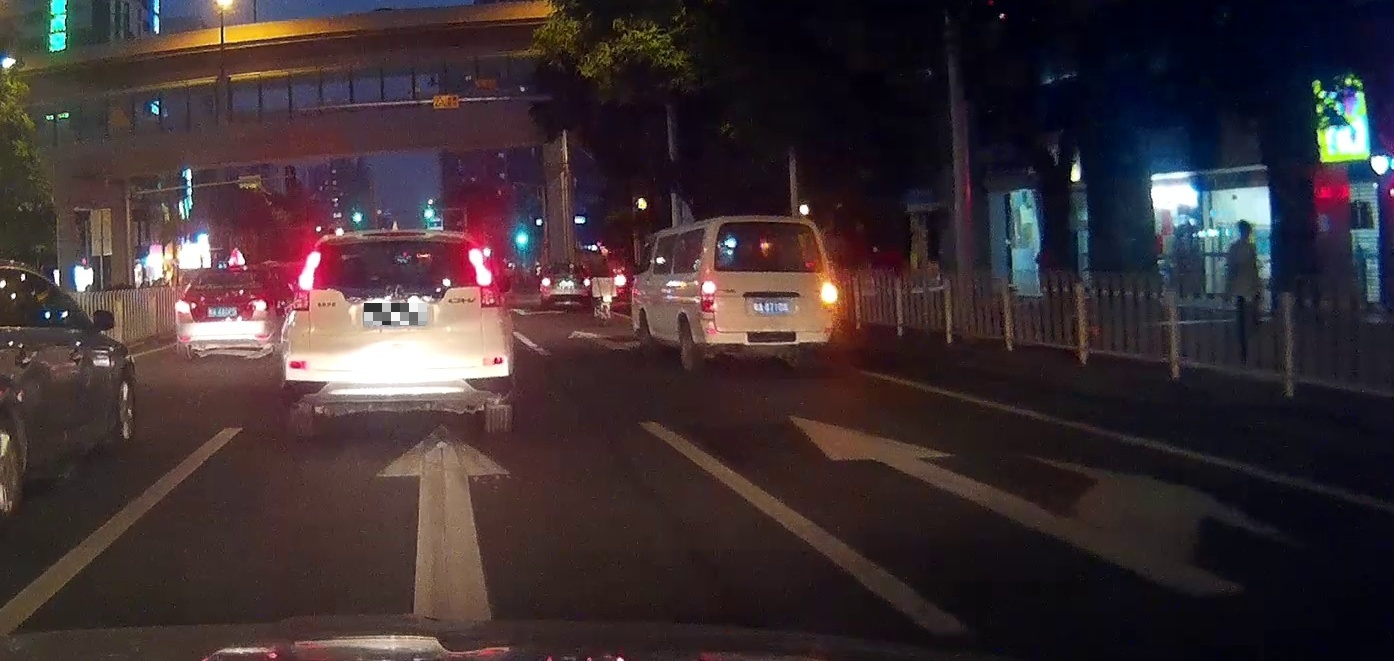L_light: (291, 252, 319, 310), (701, 281, 716, 312), (175, 299, 191, 313)
R_light: (470, 248, 499, 307), (821, 279, 838, 311), (249, 298, 268, 311)
T_light: (382, 239, 412, 248), (759, 222, 782, 230), (226, 271, 244, 277)
night-no: (281, 230, 513, 433), (175, 265, 269, 361)
night-right: (701, 215, 838, 371)
plate_1: (364, 303, 427, 325)
